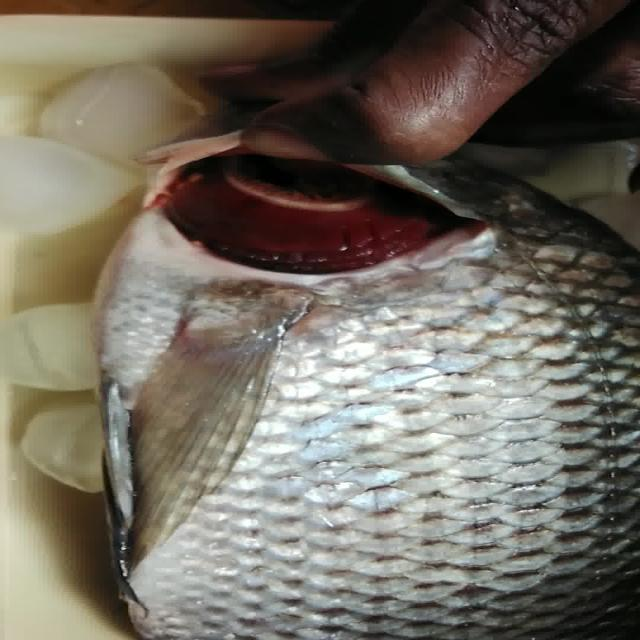Fresh: (137, 160, 504, 287)
